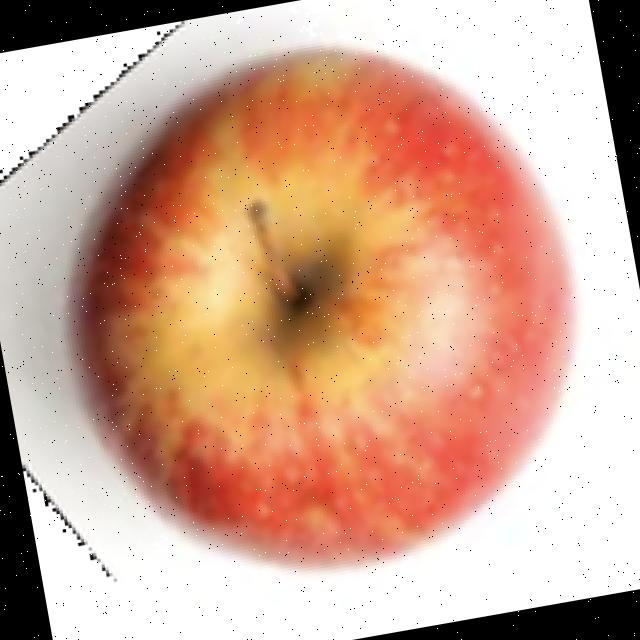apple: (11, 28, 586, 580)
